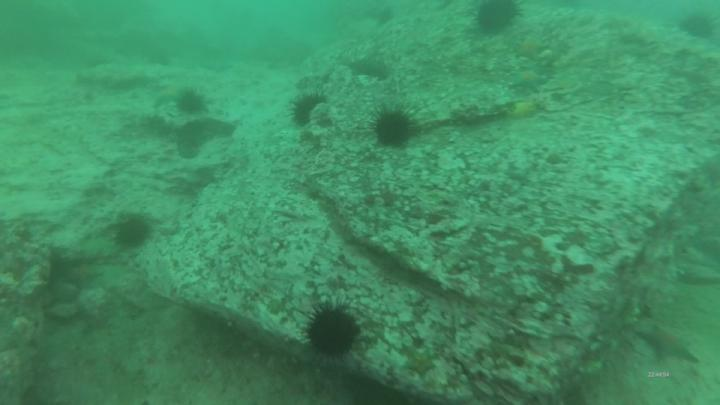echinus: (297, 302, 365, 364), (366, 106, 424, 150), (109, 214, 154, 256), (476, 1, 519, 37), (289, 91, 327, 129), (676, 12, 718, 44), (171, 86, 210, 117)
holothurian: (175, 117, 239, 162)
starfish: (636, 321, 702, 371), (398, 341, 439, 386), (511, 31, 553, 63), (507, 66, 554, 94)
